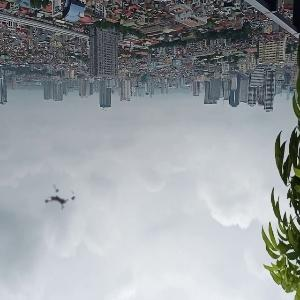drone: (33, 171, 88, 226)
